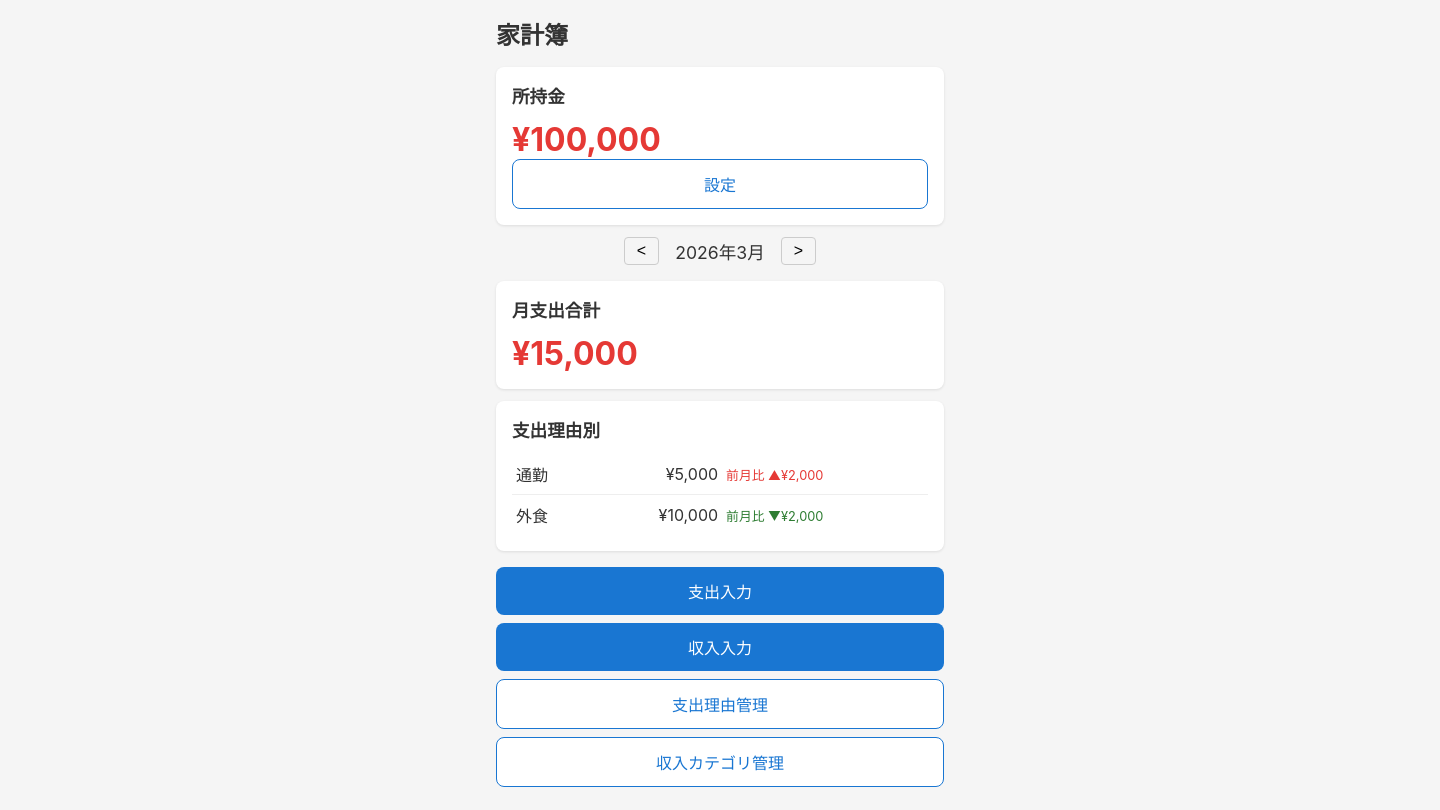
Home › 所持金モーダルで金額を更新できる
Check: the text "¥100,000" is shown, box [512,120,661,159]
Click the button "設定" at (720, 184), box [512,159,928,209]
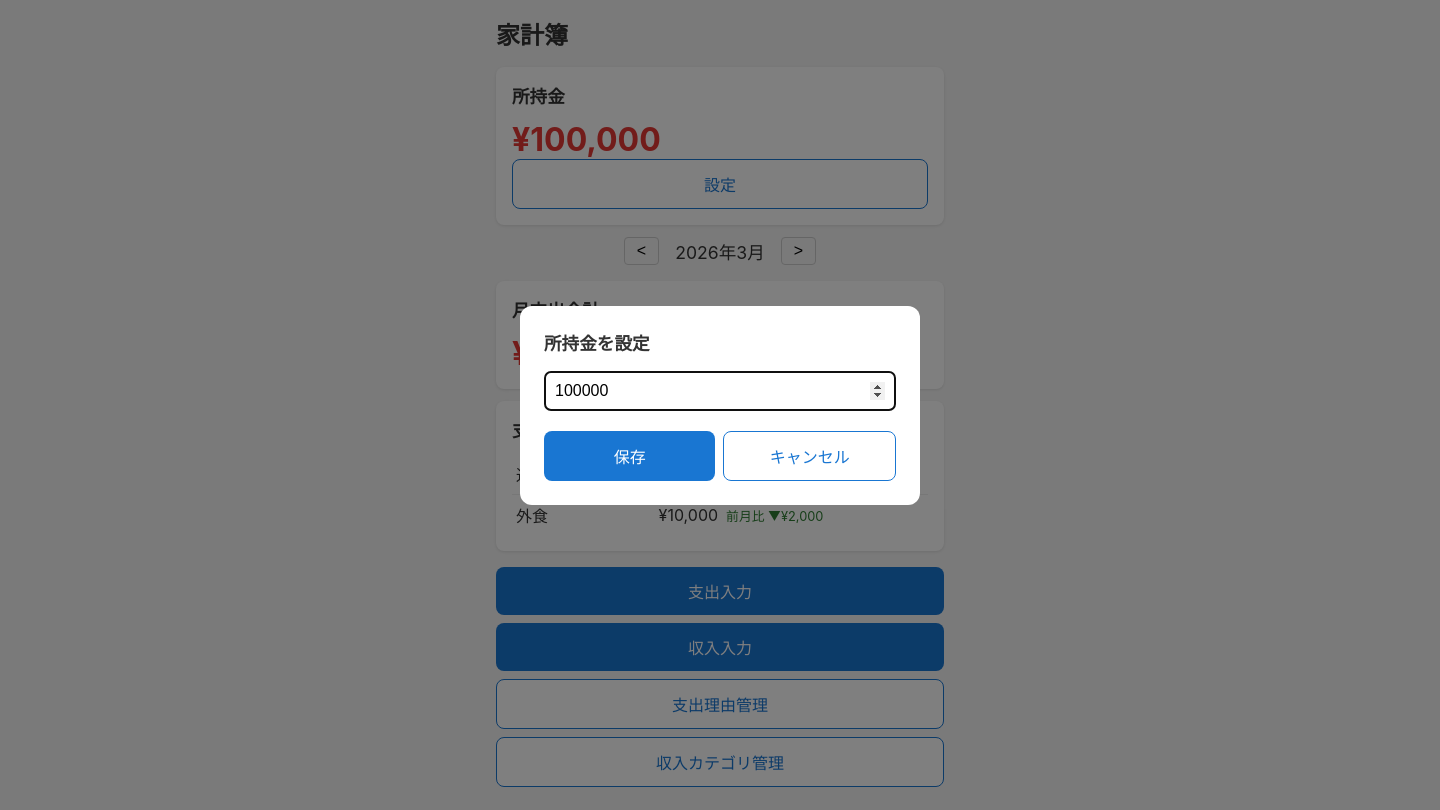
Check: the heading "所持金を設定" is shown, box [544,332,650,354]
Replace the text in the number field with placeholder "金額を入力" with "50000" at (720, 390), box [544,370,896,410]
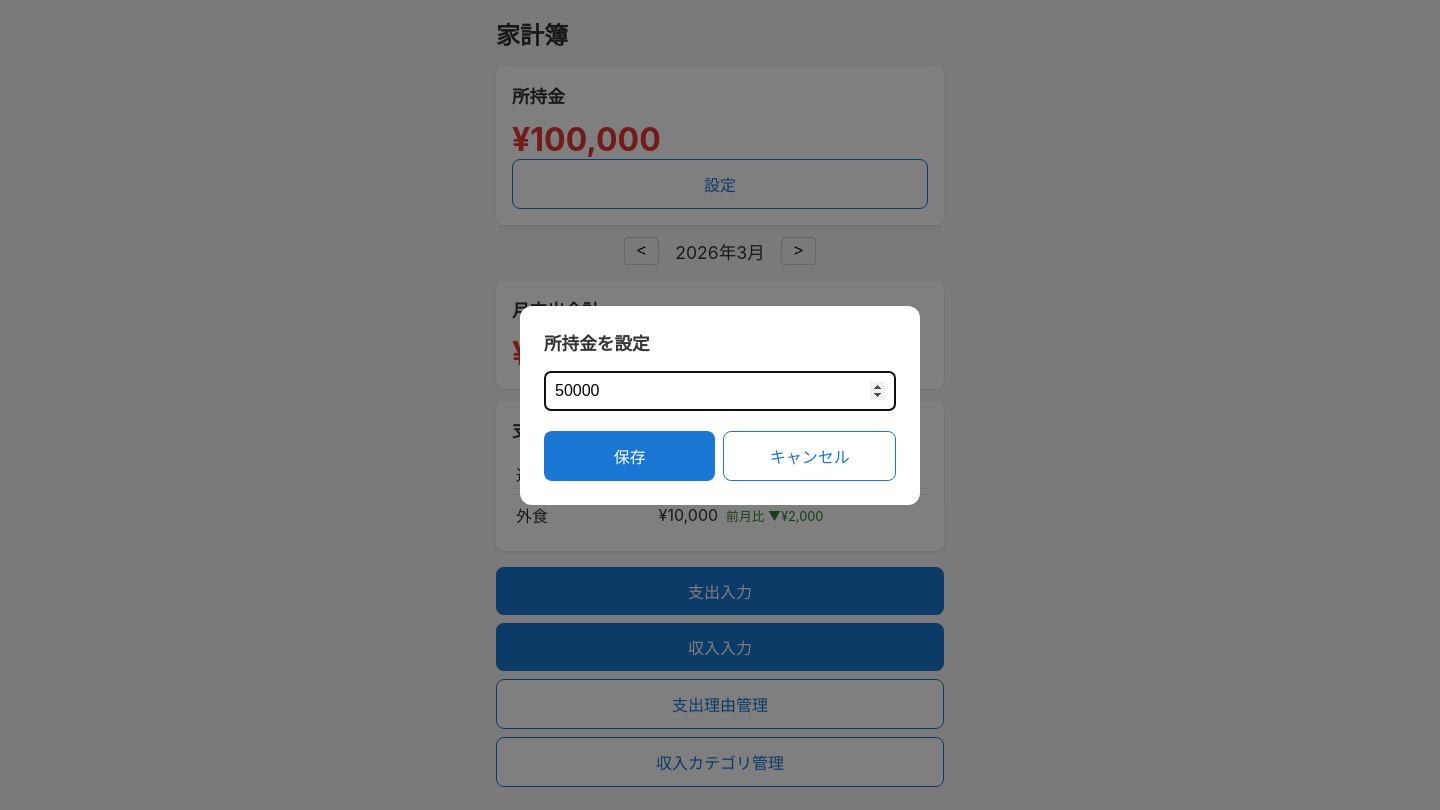
Click the button "保存" at (630, 456), box [544,430,716,480]
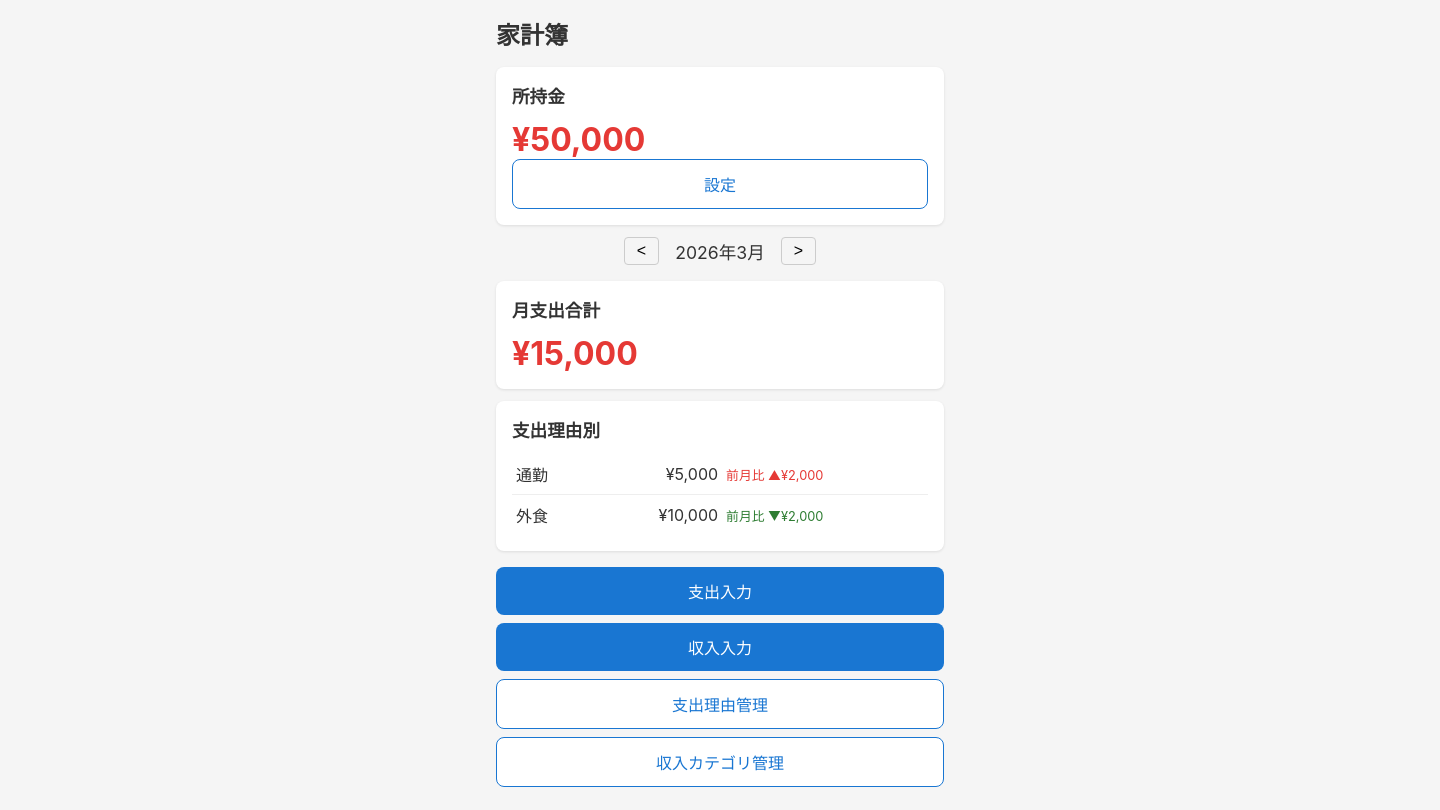
Check: the text "¥50,000" is shown, box [512,120,645,159]
